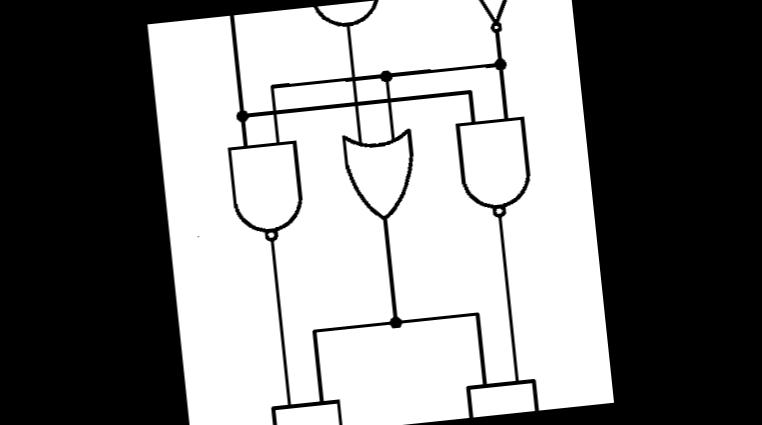and: (459, 372, 544, 418), (306, 0, 388, 33), (267, 393, 348, 425)
nand: (222, 132, 314, 250), (451, 109, 540, 225)
not: (461, 0, 529, 39)
or: (336, 122, 428, 229)
